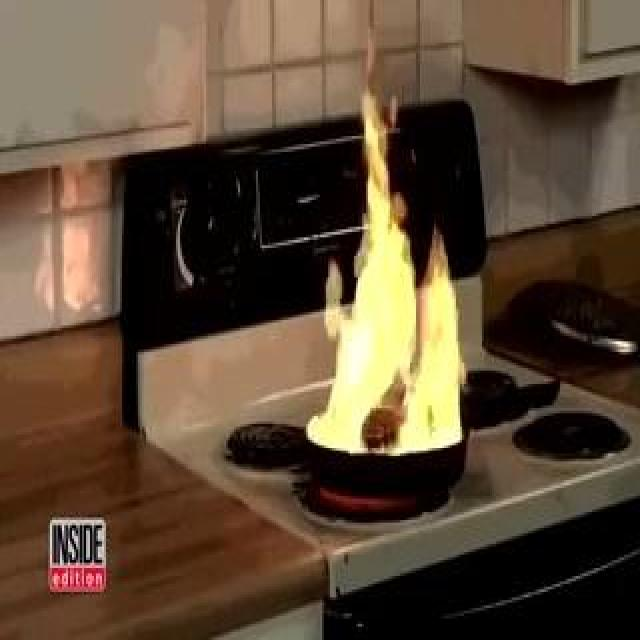Fire: (305, 126, 465, 462)
